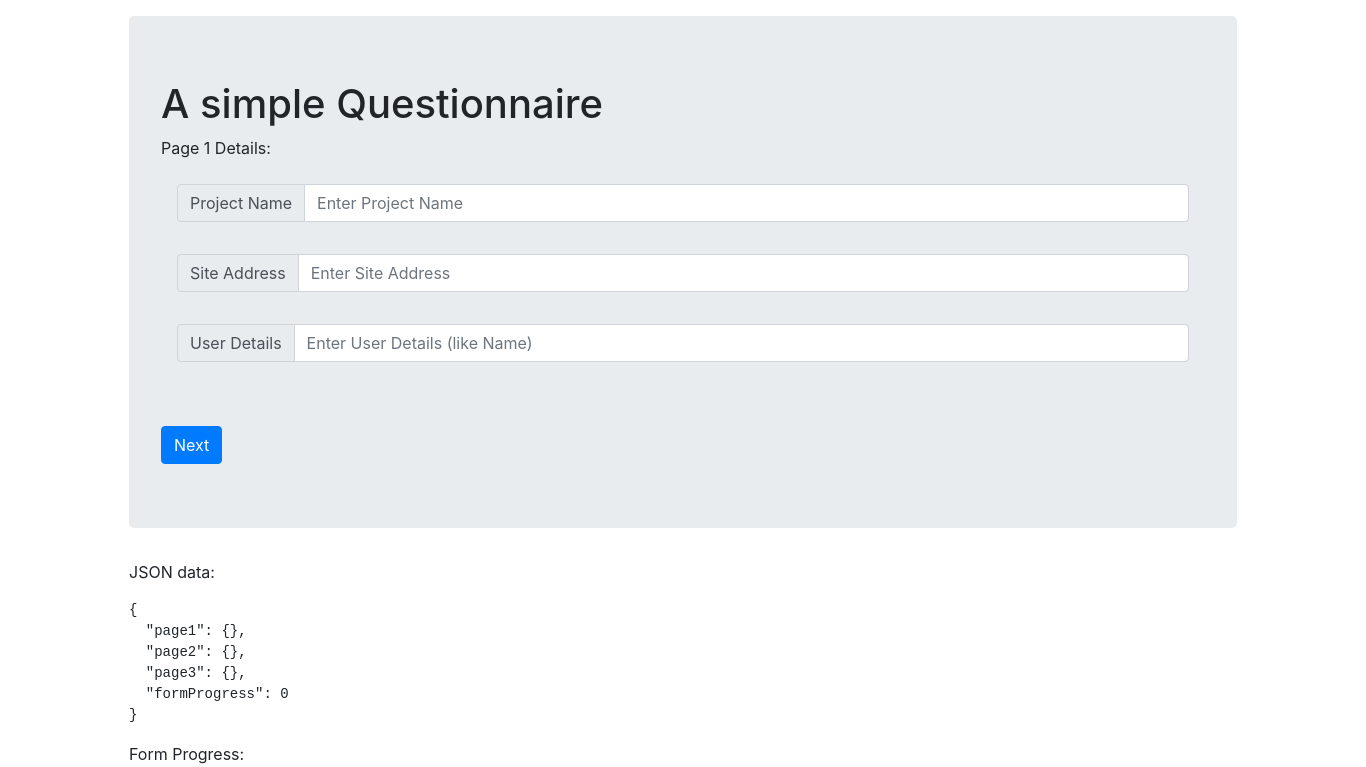
Test case: Step1 › Form Submit with Incomplete Values - With User Details
This screenshot has width=1366, height=767.
Expected: the form is shown, top-left (161, 136), bottom-right (1205, 464)
In the field named "user_details": [742, 343] box top-left (294, 324), bottom-right (1189, 362), type "a"
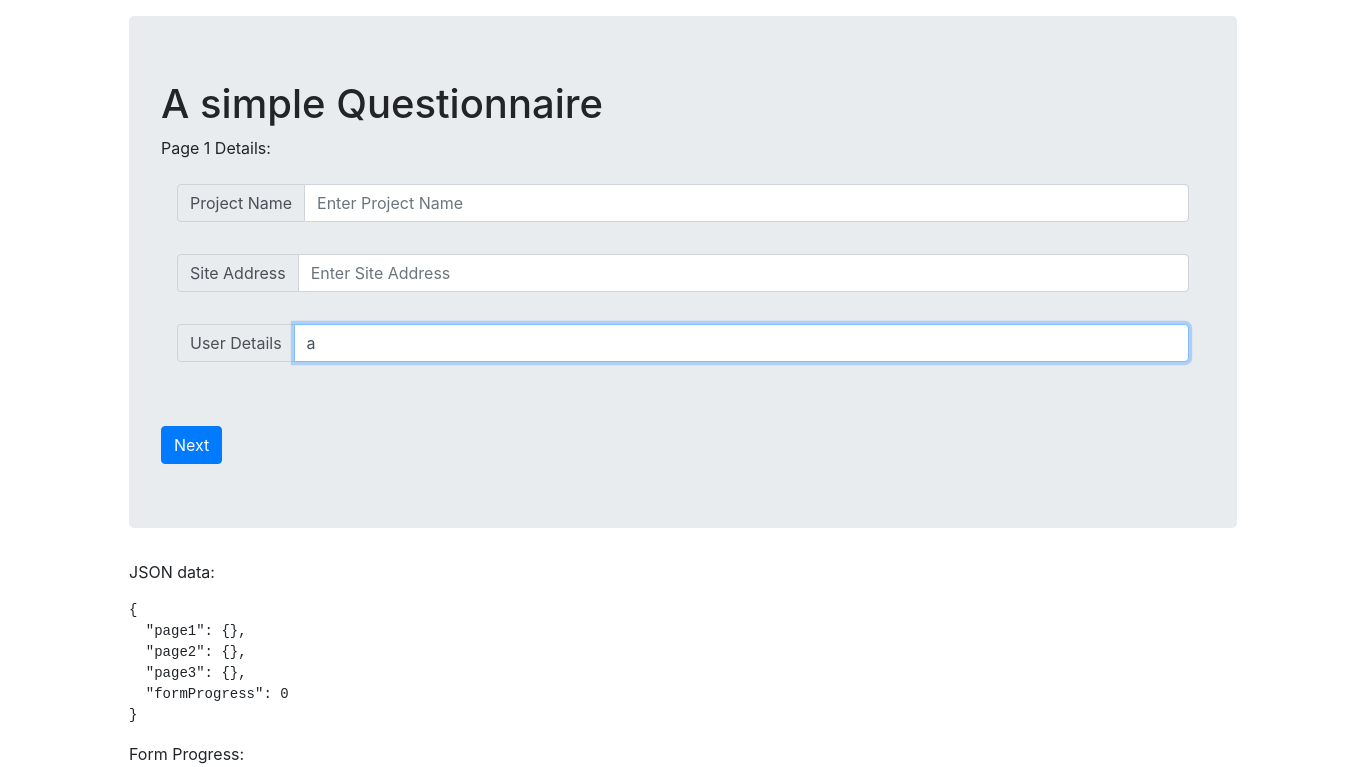
Click the submit button: [192, 445] box top-left (161, 426), bottom-right (222, 464)
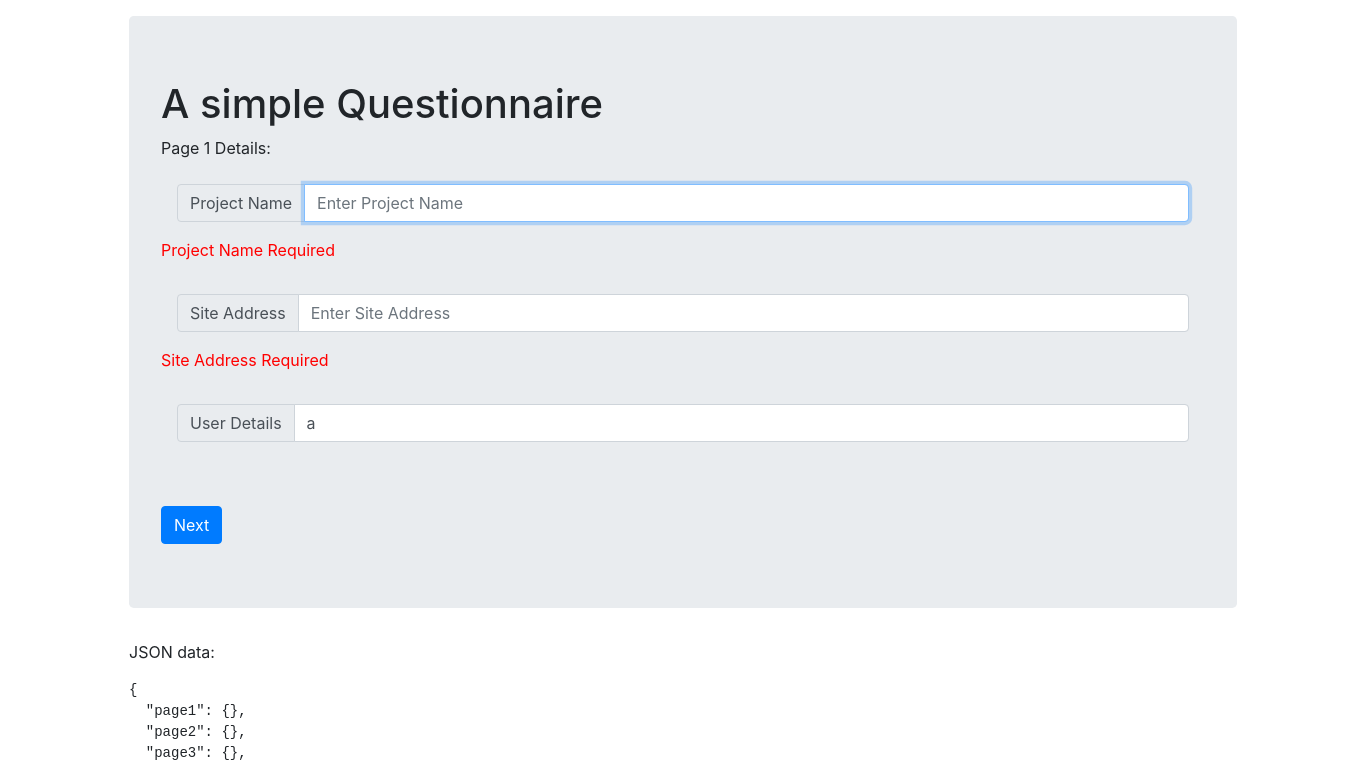
Now the text with class "site_address" reads "Site Address Required", box top-left (161, 350), bottom-right (329, 370)
Now the text "Project Name Required" is shown, box top-left (161, 240), bottom-right (335, 260)
